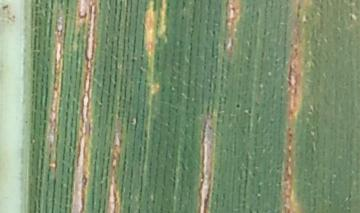tarspot: (233, 102, 242, 110)
